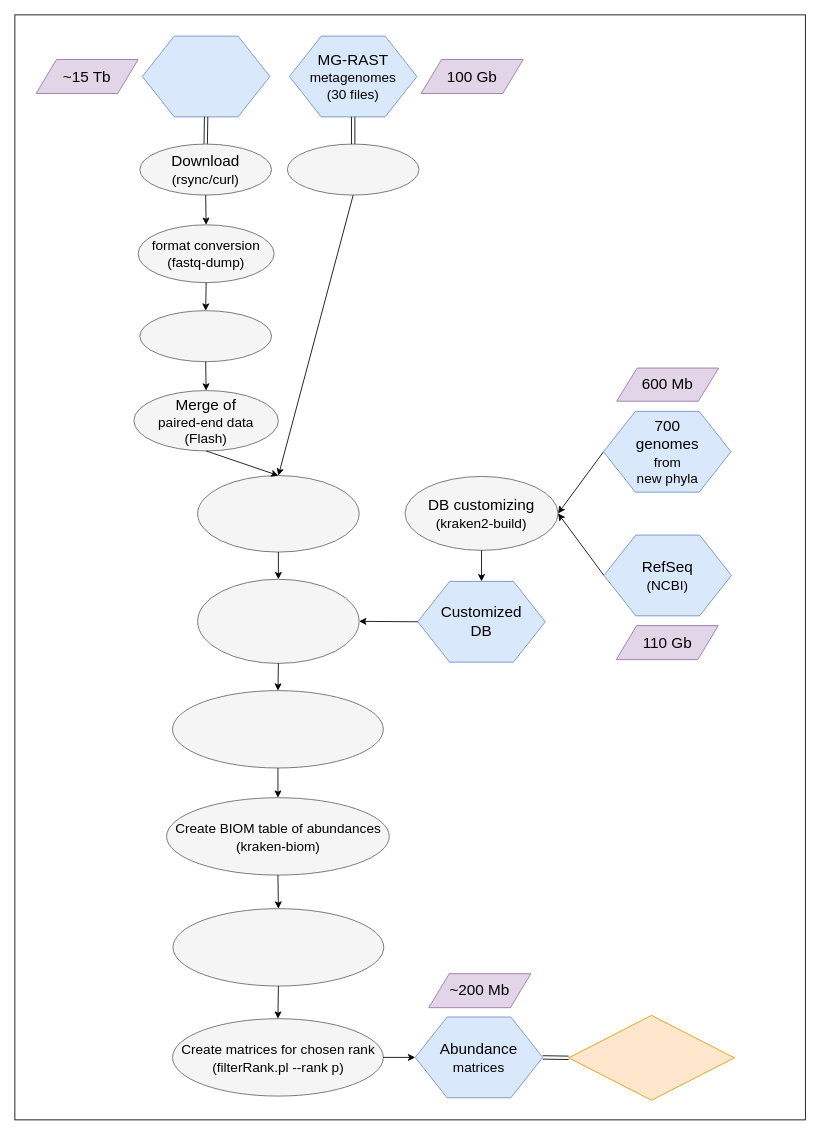
This 820x1135 diagram has some shape labels left out. The shapes that lost their labels are listed below. From the top down, each one's centre as x and y in pixels, then its label:
[206,76]: NCBI/SRA metagenomes (184 files)
[352,169]: Download (curl)
[205,336]: Quality filter (PRINSEQ)
[278,513]: Uniformity filter (size and N bases) (PRINSEQ)
[278,620]: Microorganisms profiling (kraken2 --report)
[277,729]: Selecting Bacteria & Archaea (selectGroups.pl)
[278,947]: Add taxonomic ranks to BIOM table (biom)
[651,1057]: Workflow of interaction modelling
